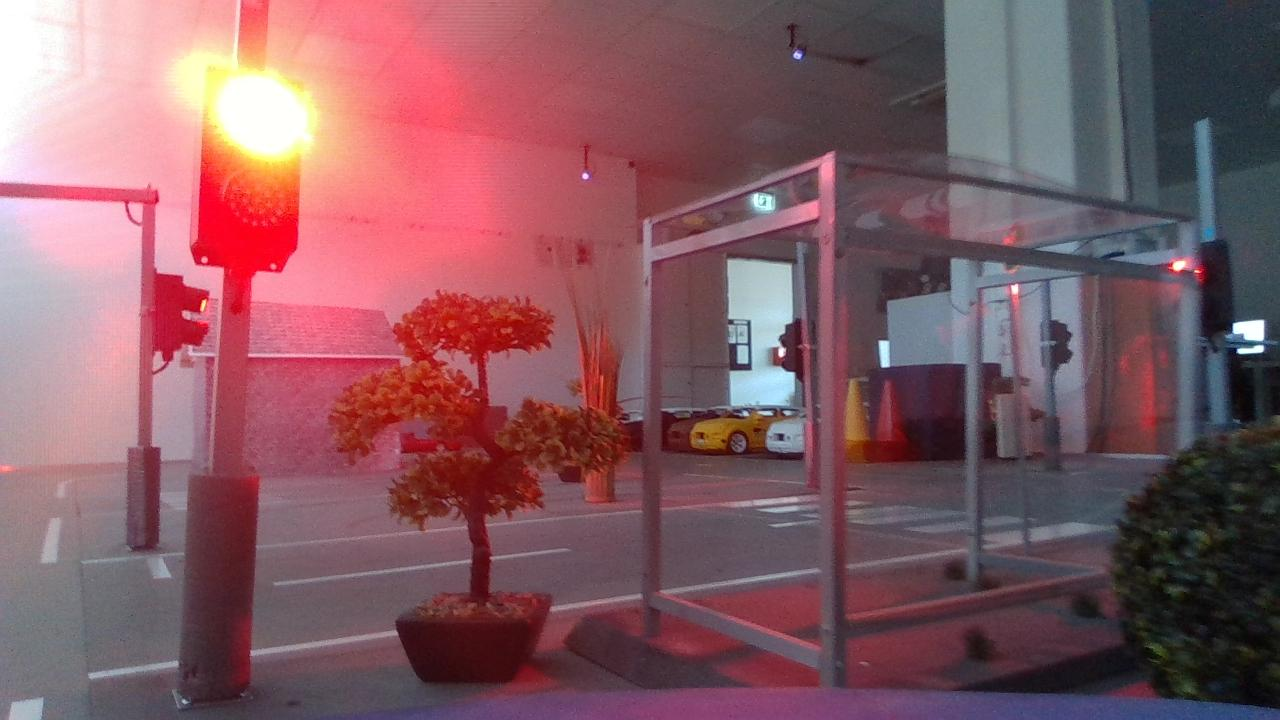traffic_light_red: (168, 48, 323, 289)
